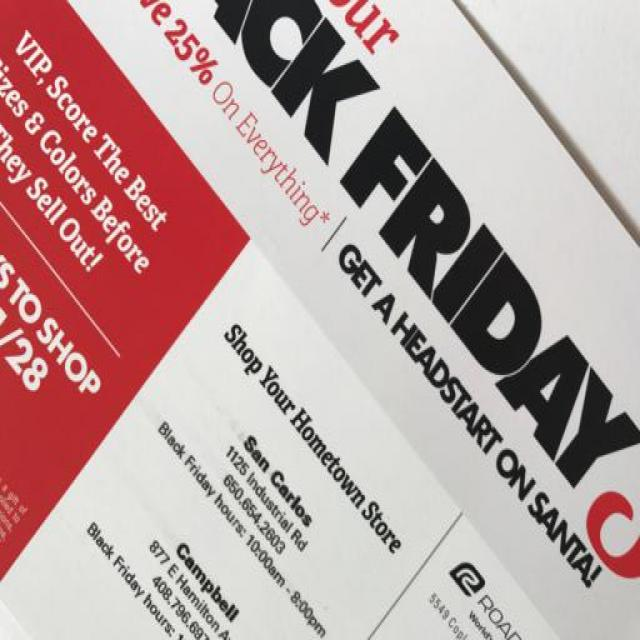paper: (1, 10, 640, 627)
